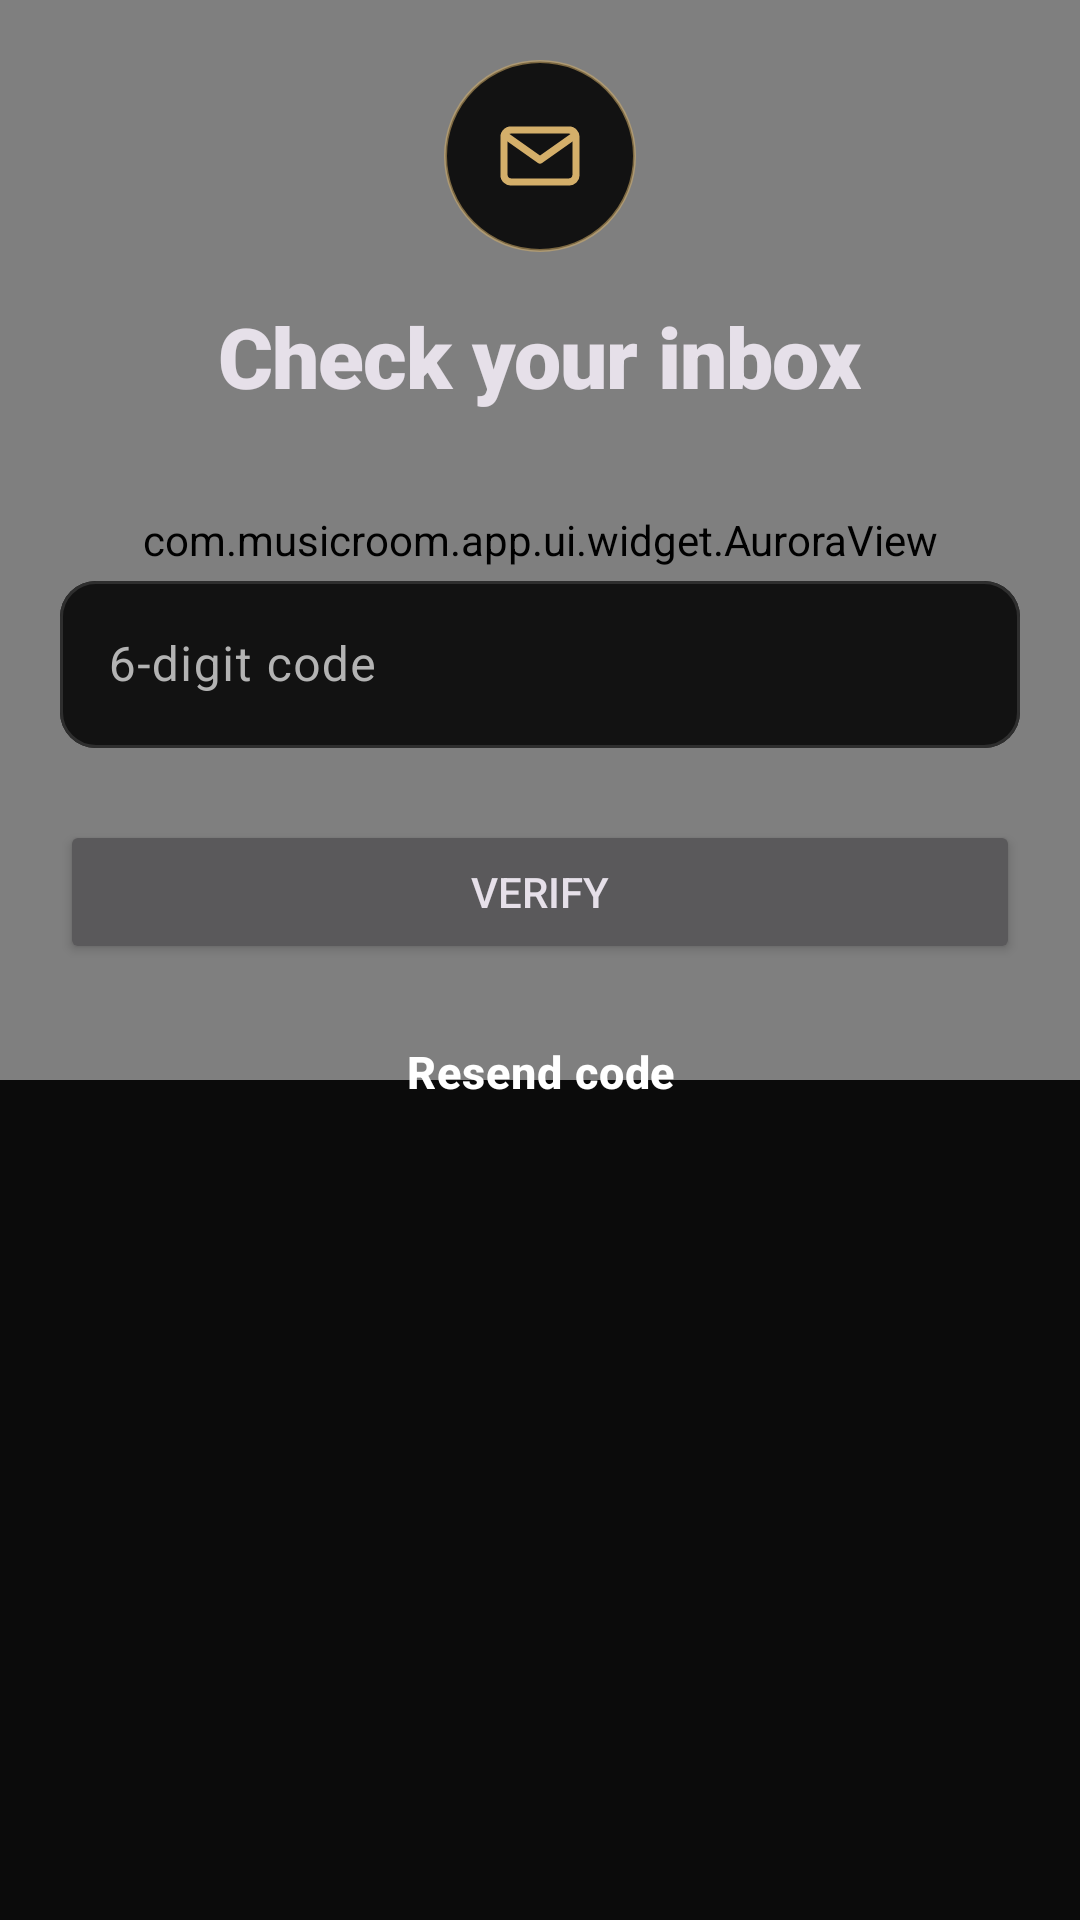

Icons on this 1080w x 1920h Android screen, each with the point to tap as (x,y):
mail: (540,156)
